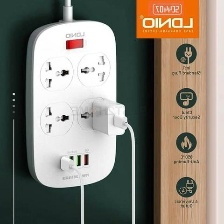three_eye_plug: (23, 18, 122, 189)
